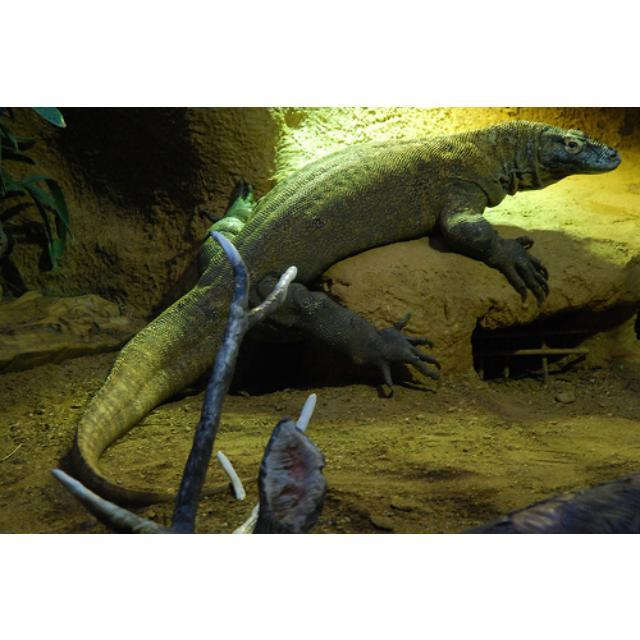KomodoDragon: (68, 106, 624, 502)
